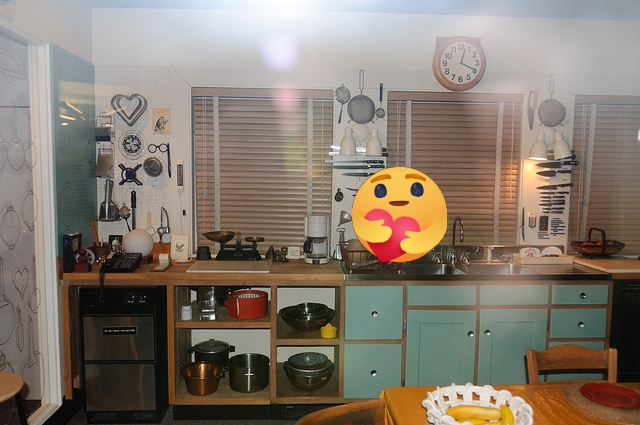care: (352, 167, 447, 262)
